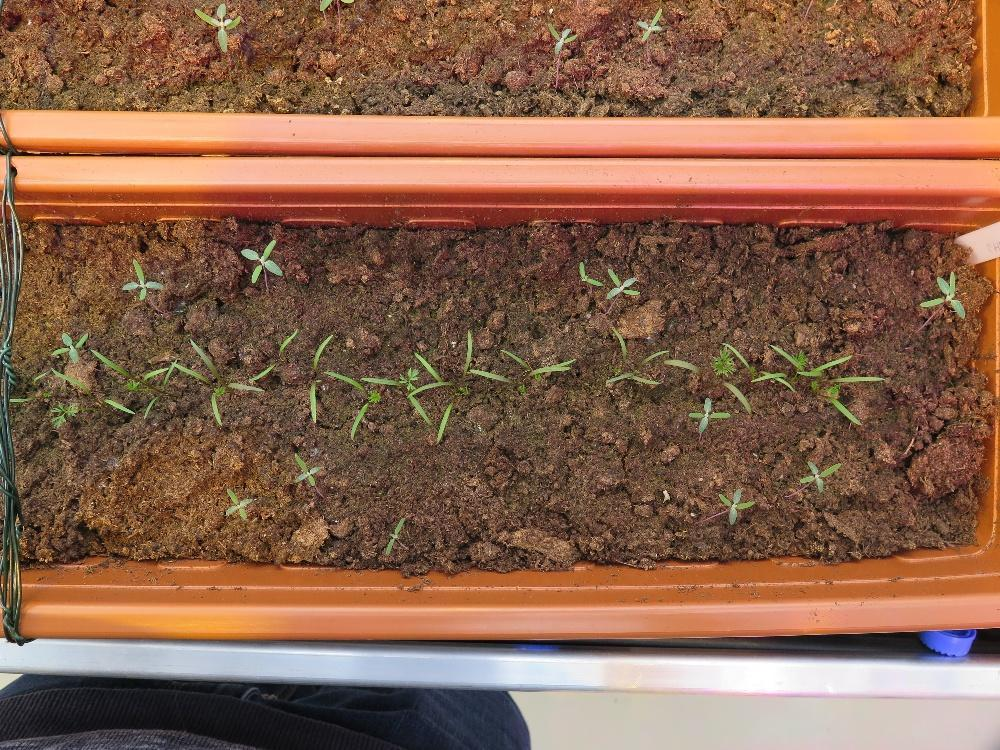weed: (916, 268, 965, 320), (238, 237, 284, 283), (119, 255, 163, 300), (687, 393, 730, 434), (717, 483, 756, 524), (798, 458, 841, 492), (50, 328, 89, 362), (604, 266, 641, 299), (633, 4, 662, 43), (545, 21, 578, 55), (224, 486, 253, 520), (292, 451, 320, 486), (384, 514, 405, 557), (577, 258, 602, 287)
